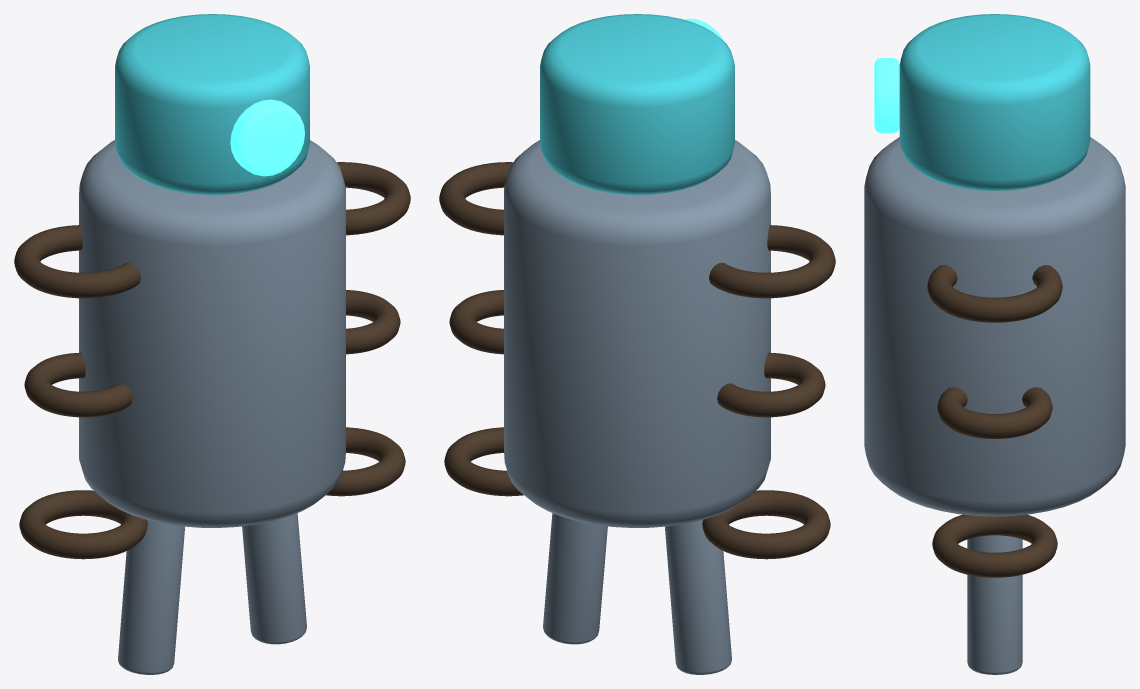
The model's file is construct_v5.glb.
3 views of the same model, side by side, from view 1: azimuth 30°, elevation 25°; view 2: azimuth 150°, elevation 25°; view 3: azimuth 270°, elevation 25° (orthographic). The views are drawn at different scales.
Visible parts, largest first — view 1: AUTOMATON_TORSO_PRIMARY, AUTOMATON_HEAD_ACCENT, AUTOMATON_LEG_PRIMARY, AUTOMATON_LEG_PRIMARY.001, AUTOMATON_GEAR_SECONDARY.002, AUTOMATON_GEAR_SECONDARY, AUTOMATON_EYE_EMISSIVE, AUTOMATON_GEAR_SECONDARY.001, AUTOMATON_GEAR_SECONDARY.003, AUTOMATON_GEAR_SECONDARY.005, AUTOMATON_GEAR_SECONDARY.004; view 2: AUTOMATON_TORSO_PRIMARY, AUTOMATON_HEAD_ACCENT, AUTOMATON_LEG_PRIMARY, AUTOMATON_LEG_PRIMARY.001, AUTOMATON_GEAR_SECONDARY.002, AUTOMATON_GEAR_SECONDARY, AUTOMATON_GEAR_SECONDARY.001, AUTOMATON_GEAR_SECONDARY.003, AUTOMATON_GEAR_SECONDARY.005, AUTOMATON_GEAR_SECONDARY.004; view 3: AUTOMATON_TORSO_PRIMARY, AUTOMATON_HEAD_ACCENT, AUTOMATON_LEG_PRIMARY.001, AUTOMATON_GEAR_SECONDARY.005, AUTOMATON_GEAR_SECONDARY.003, AUTOMATON_GEAR_SECONDARY.004, AUTOMATON_EYE_EMISSIVE.
Part boxes in pixels (box(x1,y1,x2,y2)): AUTOMATON_TORSO_PRIMARY: box(79, 140, 345, 527); AUTOMATON_HEAD_ACCENT: box(115, 14, 309, 194); AUTOMATON_LEG_PRIMARY: box(118, 520, 184, 674); AUTOMATON_LEG_PRIMARY.001: box(242, 513, 306, 644); AUTOMATON_GEAR_SECONDARY.002: box(19, 490, 147, 559); AUTOMATON_GEAR_SECONDARY: box(14, 225, 140, 298); AUTOMATON_EYE_EMISSIVE: box(230, 99, 304, 176); AUTOMATON_GEAR_SECONDARY.001: box(24, 352, 132, 417); AUTOMATON_GEAR_SECONDARY.003: box(337, 162, 410, 235); AUTOMATON_GEAR_SECONDARY.005: box(326, 427, 405, 496); AUTOMATON_GEAR_SECONDARY.004: box(346, 290, 400, 354); AUTOMATON_TORSO_PRIMARY: box(504, 140, 770, 527); AUTOMATON_HEAD_ACCENT: box(540, 14, 734, 194); AUTOMATON_LEG_PRIMARY: box(665, 520, 731, 674); AUTOMATON_LEG_PRIMARY.001: box(543, 513, 607, 644); AUTOMATON_GEAR_SECONDARY.002: box(702, 490, 830, 559); AUTOMATON_GEAR_SECONDARY: box(709, 225, 835, 298); AUTOMATON_GEAR_SECONDARY.001: box(717, 352, 825, 417); AUTOMATON_GEAR_SECONDARY.003: box(439, 162, 512, 235); AUTOMATON_GEAR_SECONDARY.005: box(444, 427, 523, 496); AUTOMATON_GEAR_SECONDARY.004: box(449, 290, 503, 354); AUTOMATON_TORSO_PRIMARY: box(864, 137, 1125, 516); AUTOMATON_HEAD_ACCENT: box(899, 14, 1090, 190); AUTOMATON_LEG_PRIMARY.001: box(967, 535, 1022, 674); AUTOMATON_GEAR_SECONDARY.005: box(932, 514, 1057, 577); AUTOMATON_GEAR_SECONDARY.003: box(927, 265, 1062, 322); AUTOMATON_GEAR_SECONDARY.004: box(937, 387, 1052, 438); AUTOMATON_EYE_EMISSIVE: box(874, 58, 899, 133).
Bounding box in the file's own units: 1.33 × 2.02 × 0.8112.
